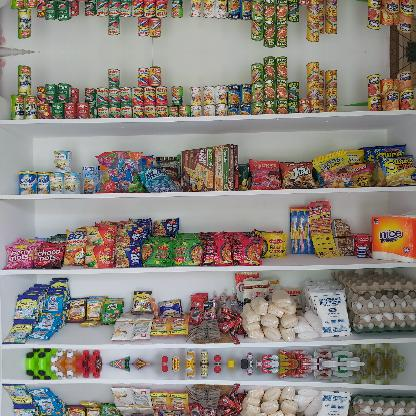Koko-Krunch: (180, 144, 238, 191)
